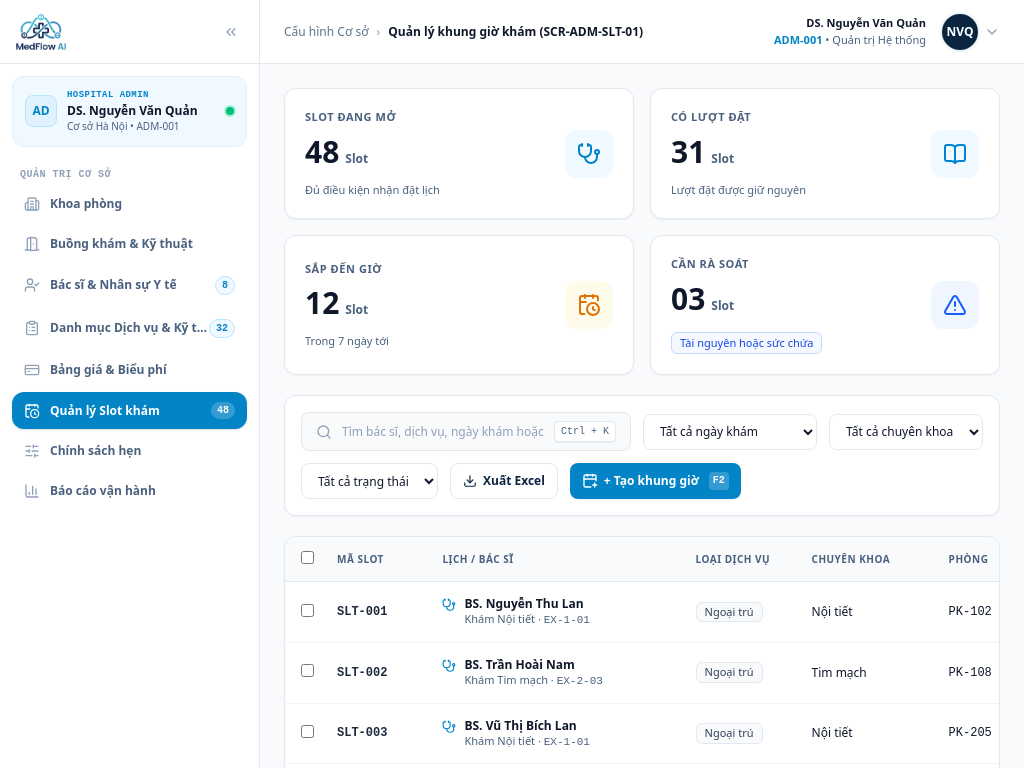
Test case: ExaminationSlotListPage (SCR-ADM-SLT-01) › filters slot items by specialty dropdown
Select "Tim mạch" in the dropdown named "Lọc theo chuyên khoa" at [906, 432], box 829,414 -> 983,450
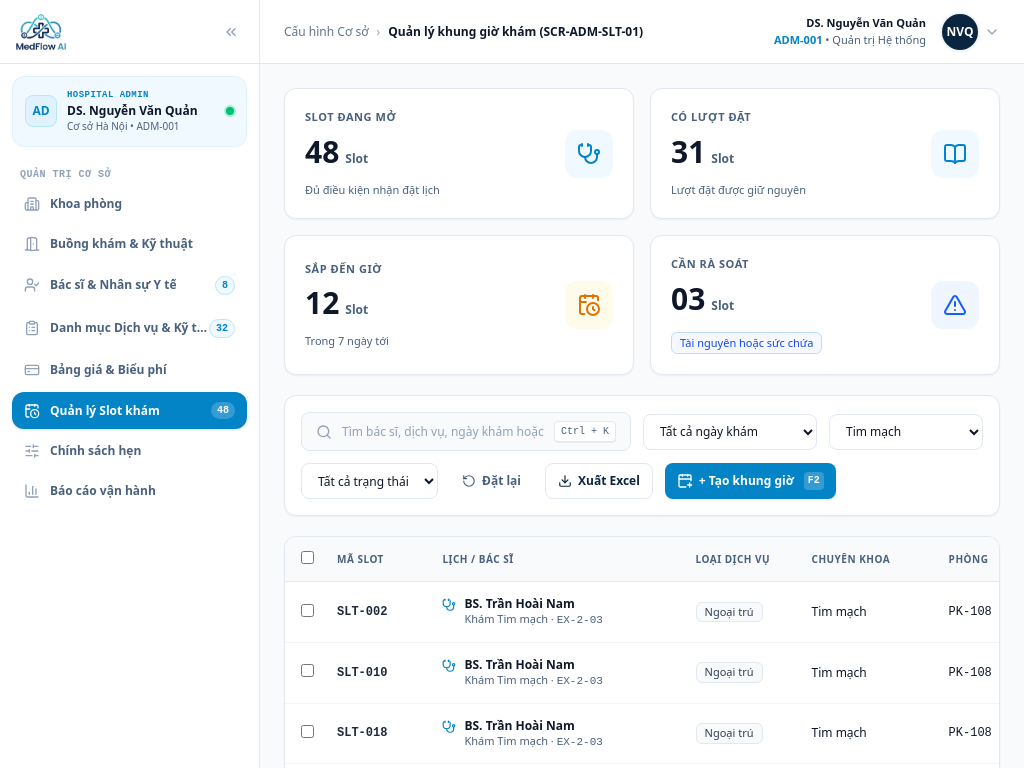
expect the text "BS. Nguyễn Thu Lan" is gone: met
